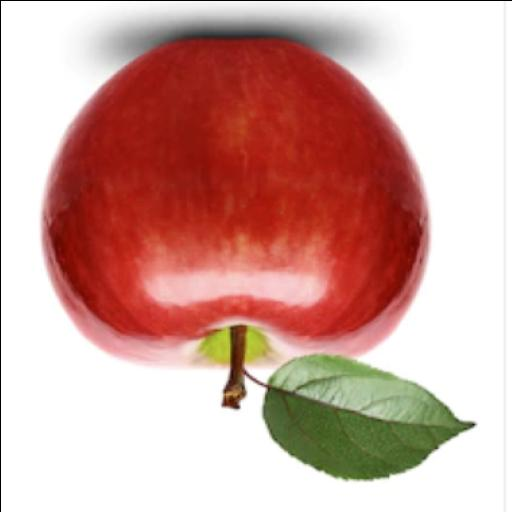apple: (43, 38, 428, 365)
